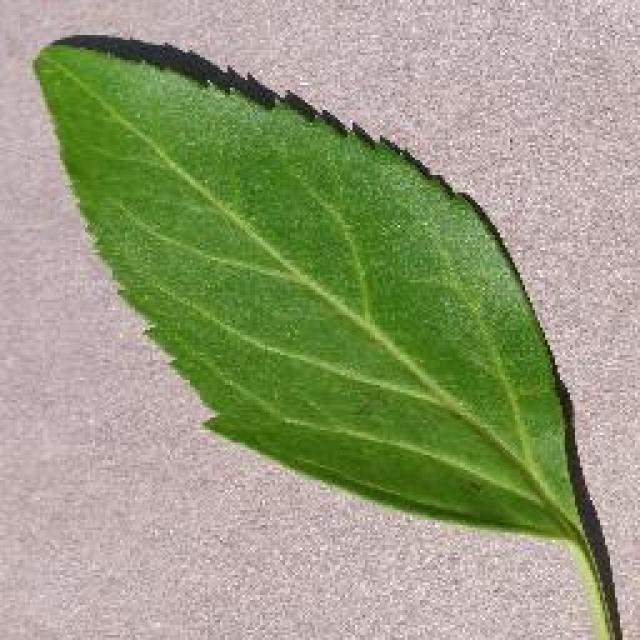Cherry___healthy: (43, 51, 572, 505)
